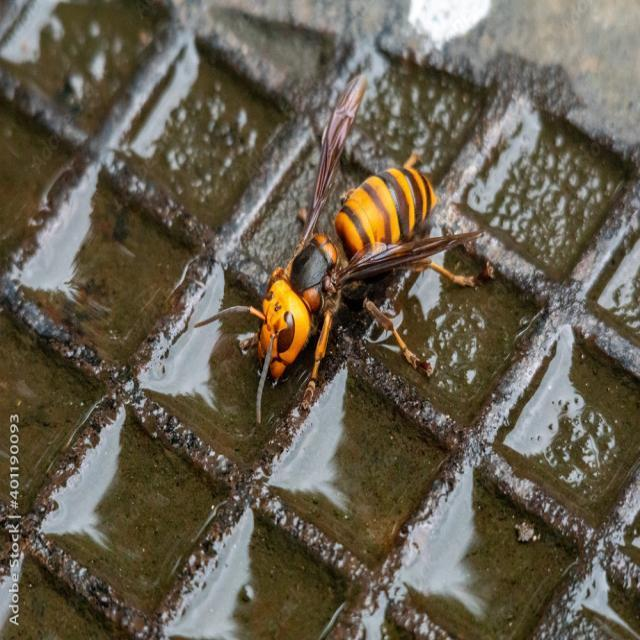Wasp: (192, 76, 485, 397)
